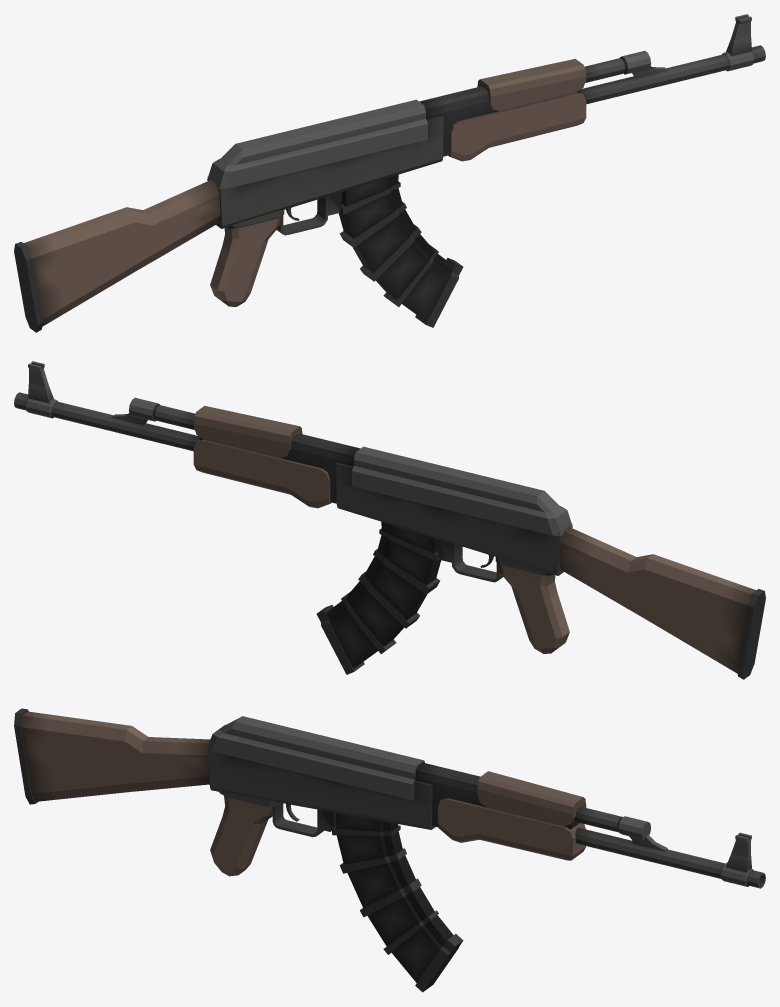
The model's file is q-assaultrifle-2.glb.
The picture shows the model from 3 angles, top to bottom: view 1: azimuth 30°, elevation 25°; view 2: azimuth 150°, elevation 25°; view 3: azimuth 330°, elevation 25°; orthographic projection.
Parts seen in each view (by area): view 1: body; view 2: body; view 3: body.
Part boxes in pixels (x1,y1,x2,y2): body: (14, 14, 765, 332); body: (14, 361, 765, 679); body: (14, 708, 765, 992).
Bounding box in the file's own units: 0.9 × 0.2658 × 0.0325.
